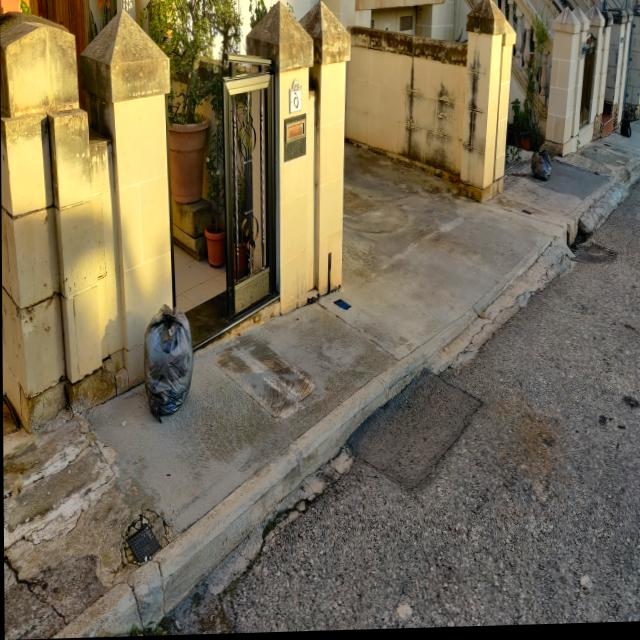Mixed Waste -Black Bags-: (143, 305, 193, 419), (530, 153, 551, 183), (620, 122, 631, 142)
